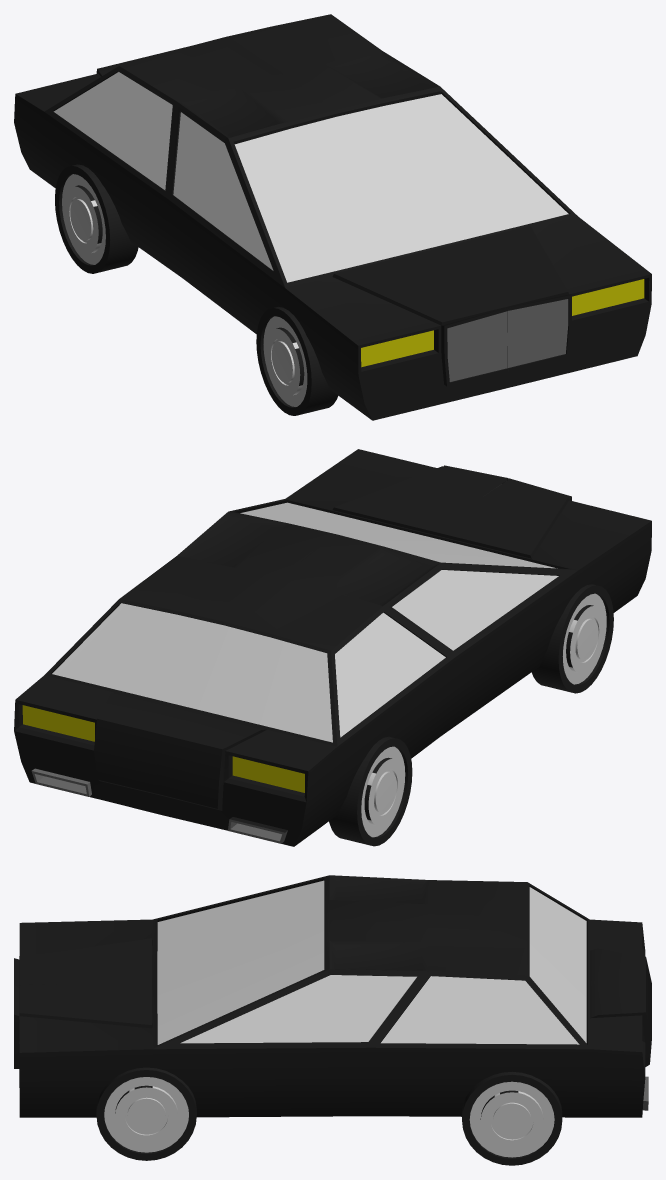
File: car.fbx
3 renders of one model, top to bottom at view 1: azimuth 30°, elevation 25°; view 2: azimuth 150°, elevation 25°; view 3: azimuth 270°, elevation 25°, orthographic. The views are drawn at different scales.
Visible parts, largest first — view 1: Car, Wheel3, Wheel1; view 2: Car, Wheel3, Wheel1; view 3: Car, Wheel2, Wheel4.
Boxes of the visible parts, bbox=[...] form: Car: bbox=[14, 14, 651, 420]; Wheel3: bbox=[55, 164, 138, 273]; Wheel1: bbox=[256, 306, 338, 415]; Car: bbox=[14, 449, 651, 846]; Wheel3: bbox=[329, 736, 412, 846]; Wheel1: bbox=[531, 584, 613, 693]; Car: bbox=[14, 875, 651, 1117]; Wheel2: bbox=[462, 1072, 562, 1165]; Wheel4: bbox=[96, 1067, 196, 1160].
Bounding box in the file's own units: 228 × 140 × 452.
